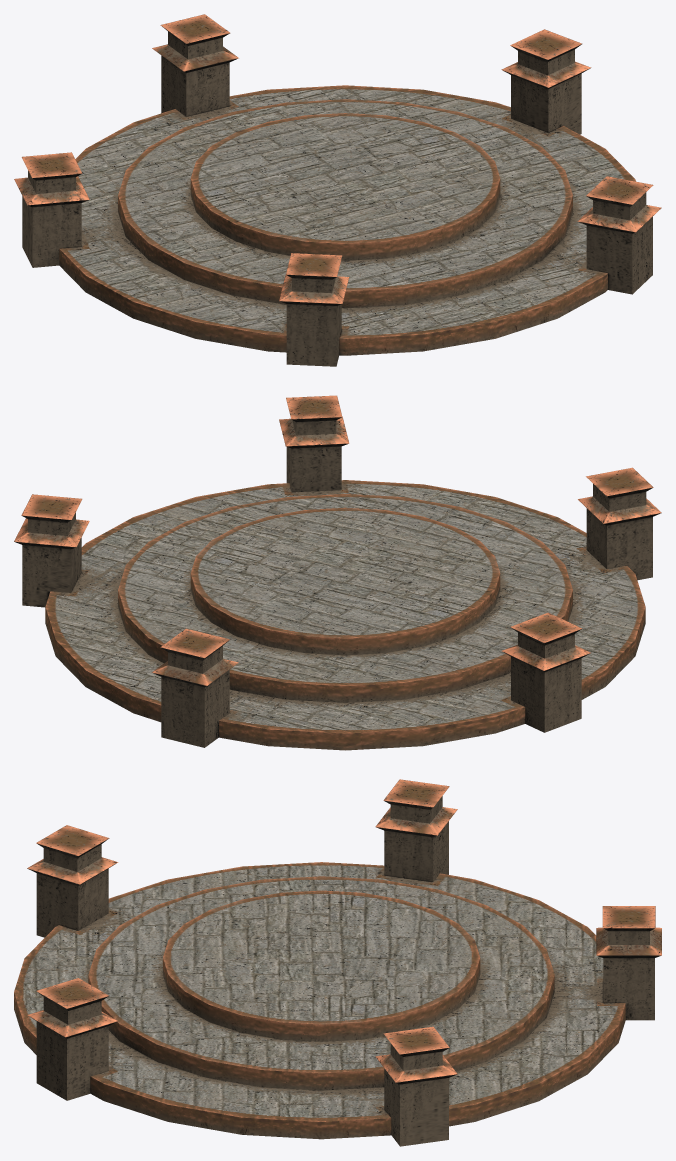
3 views of the same model, one above another, from view 1: azimuth 30°, elevation 25°; view 2: azimuth 150°, elevation 25°; view 3: azimuth 270°, elevation 25° (orthographic). The views are drawn at different scales.
Parts seen in each view (by area): view 1: Flats, Pillars; view 2: Flats, Pillars; view 3: Flats, Pillars.
Boxes of the visible parts, x1,y1,x2,y2 form: Flats: (59, 85, 635, 355); Pillars: (14, 14, 661, 366); Flats: (45, 480, 645, 750); Pillars: (14, 395, 661, 747); Flats: (14, 862, 625, 1139); Pillars: (27, 779, 661, 1146).
Size of the model in its own units: 276 by 42.14 by 268.
